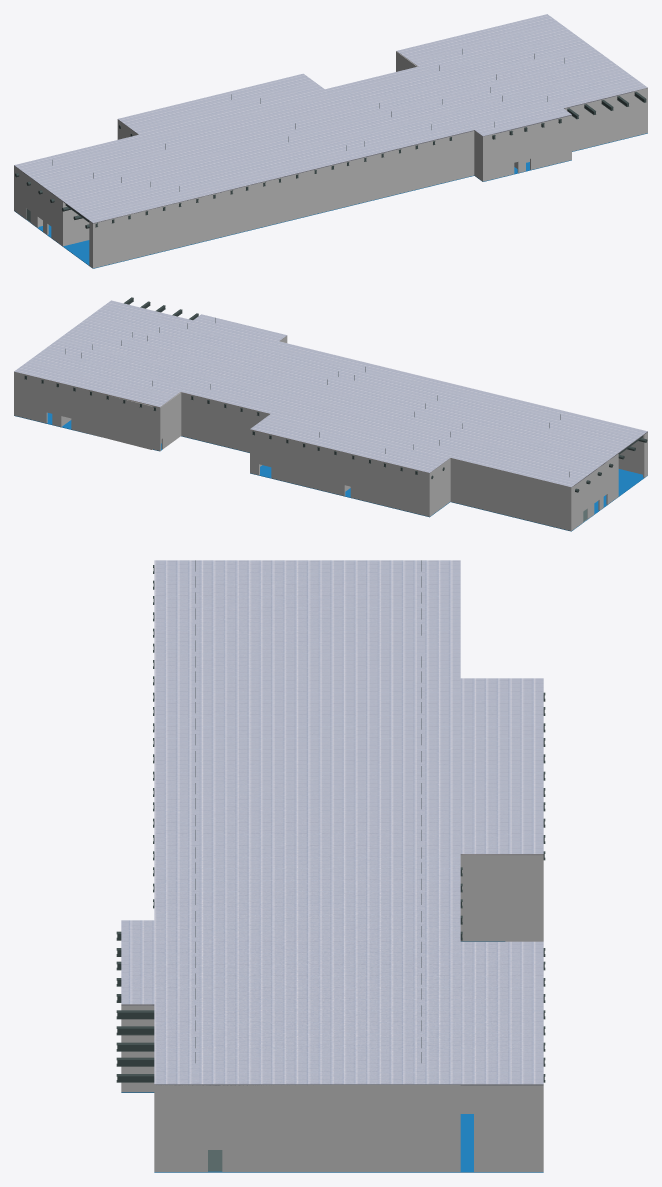
Rendered from interiornew.FBX.
3 renders of one model, top to bottom at view 1: azimuth 30°, elevation 25°; view 2: azimuth 150°, elevation 25°; view 3: azimuth 270°, elevation 25°, orthographic. The views are drawn at different scales.
Parts seen in each view (by area): view 1: roof, Shape1, floor; view 2: roof, Shape1, floor; view 3: roof, Shape1, floor.
Part boxes in pixels (left/top/right/bottom): roof: left=14, top=14, right=647, bottom=223; Shape1: left=14, top=51, right=647, bottom=268; floor: left=14, top=133, right=647, bottom=268; roof: left=14, top=300, right=647, bottom=487; Shape1: left=14, top=336, right=647, bottom=530; floor: left=14, top=413, right=647, bottom=531; roof: left=121, top=560, right=543, bottom=1085; Shape1: left=121, top=855, right=543, bottom=1171; floor: left=121, top=941, right=543, bottom=1172.
Bounding box in the file's own units: 5353 × 479 × 1844.
